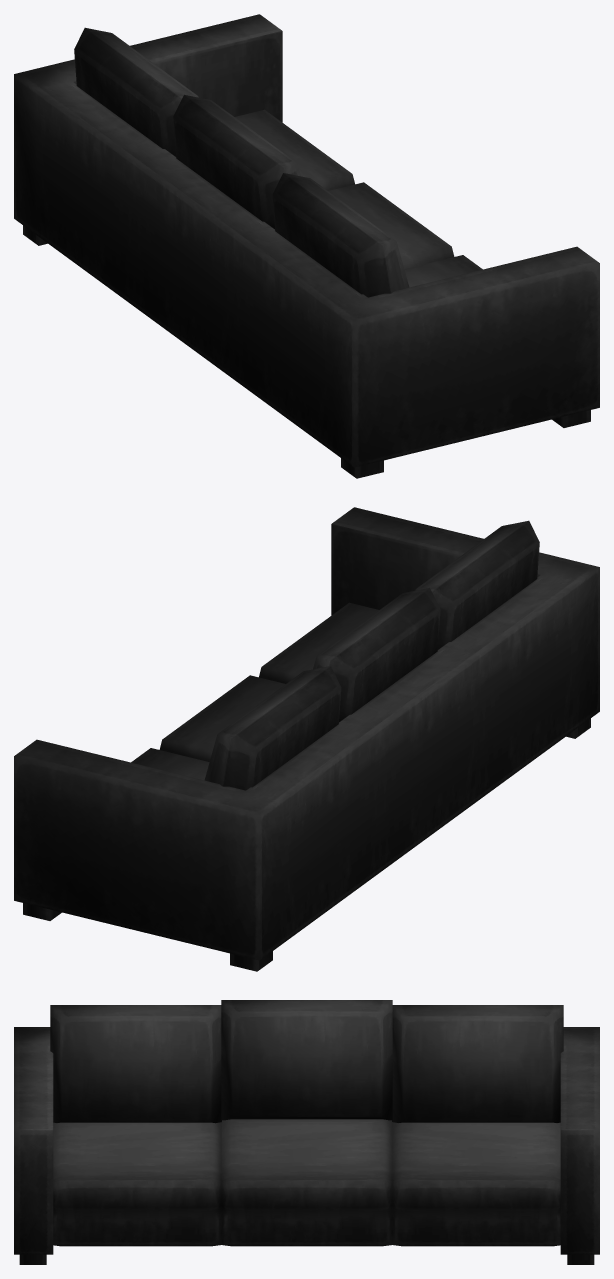
File: couch01.glb
3 views of the same model, one above another, from view 1: azimuth 30°, elevation 25°; view 2: azimuth 150°, elevation 25°; view 3: azimuth 270°, elevation 25° (orthographic). The views are drawn at different scales.
Visible parts, largest first — view 1: sofa01; view 2: sofa01; view 3: sofa01.
Part boxes in pixels (x1=…): sofa01: x1=14, y1=14, x2=599, y2=478; sofa01: x1=14, y1=507, x2=599, y2=971; sofa01: x1=14, y1=1000, x2=599, y2=1264.
Bounding box in the file's own units: 0.8373 × 0.6989 × 2.01.
Materials: 1 (1 with a texture image).
